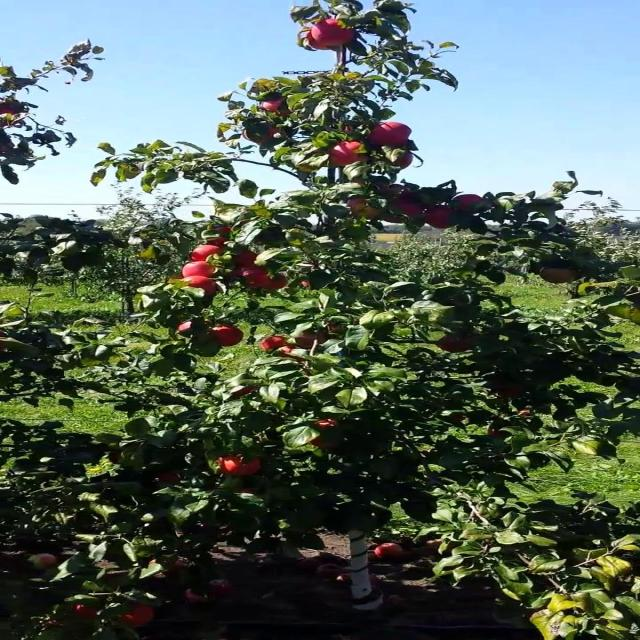apple: (312, 20, 357, 47), (326, 144, 370, 168), (369, 124, 412, 148), (220, 456, 263, 479), (177, 276, 220, 297), (120, 604, 156, 628), (490, 380, 526, 400), (426, 208, 455, 231), (241, 128, 279, 145), (212, 328, 244, 348), (348, 200, 380, 220), (440, 336, 475, 354), (262, 272, 292, 292), (540, 268, 576, 284), (376, 184, 412, 200), (241, 268, 268, 288), (305, 32, 332, 52), (262, 100, 293, 117), (234, 268, 268, 283), (298, 332, 327, 349), (184, 264, 219, 278), (397, 200, 425, 217), (454, 196, 485, 211), (198, 244, 226, 260), (191, 248, 224, 261), (234, 252, 260, 268), (390, 152, 414, 169), (156, 472, 185, 486), (262, 336, 286, 352), (77, 604, 100, 620), (6, 108, 25, 127), (312, 436, 336, 451), (276, 348, 304, 360), (284, 348, 306, 363), (205, 236, 228, 248), (234, 388, 258, 398), (319, 420, 340, 431), (6, 104, 23, 116), (326, 324, 347, 333), (177, 324, 196, 333), (490, 428, 505, 439), (212, 228, 235, 234), (241, 488, 258, 496), (298, 280, 313, 289), (113, 452, 123, 464), (348, 180, 368, 185)
